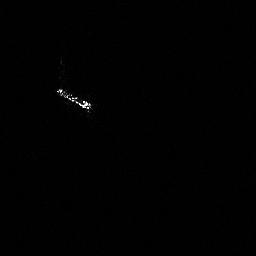ship: (54, 85, 94, 113)
